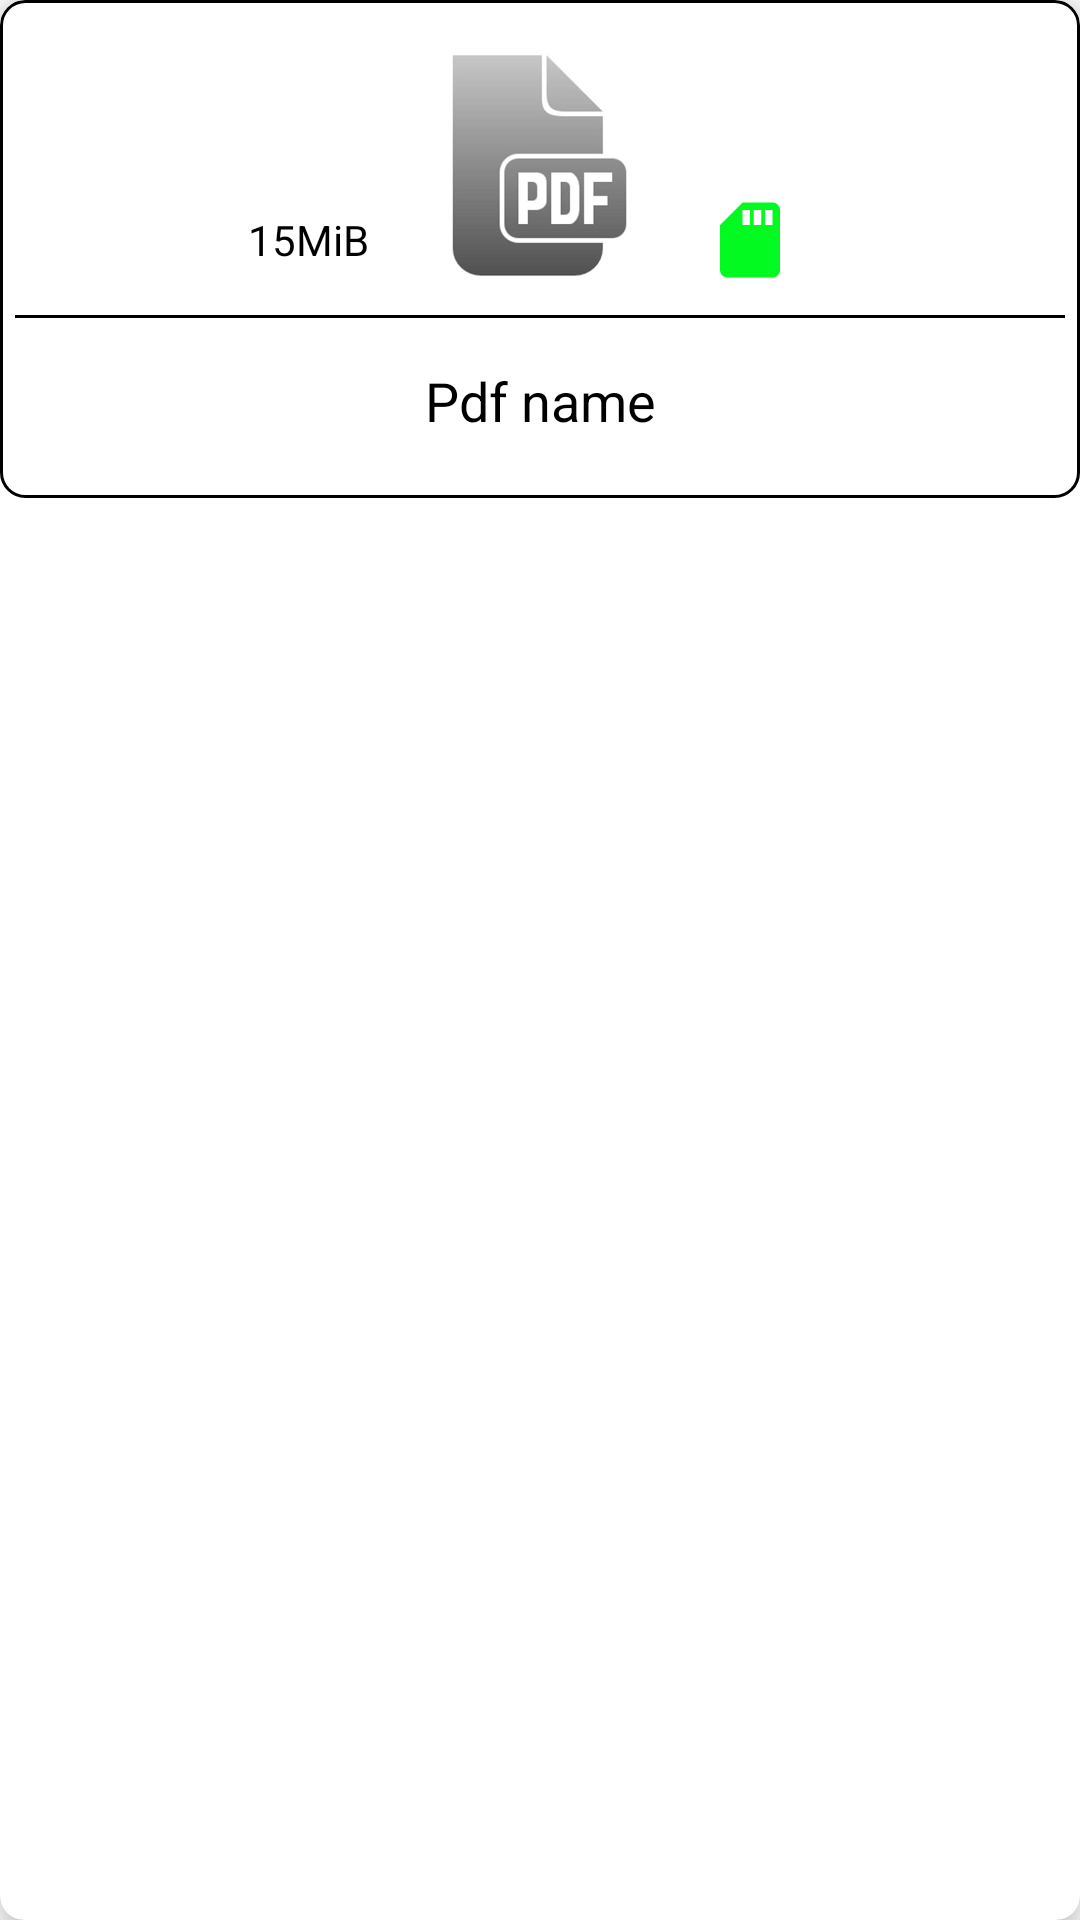

Icons on this 1080*1920 Android screen, each with its box as [left=x1, top=y1, right=x2, bottom=y2]:
sd card: [left=720, top=202, right=780, bottom=278]
